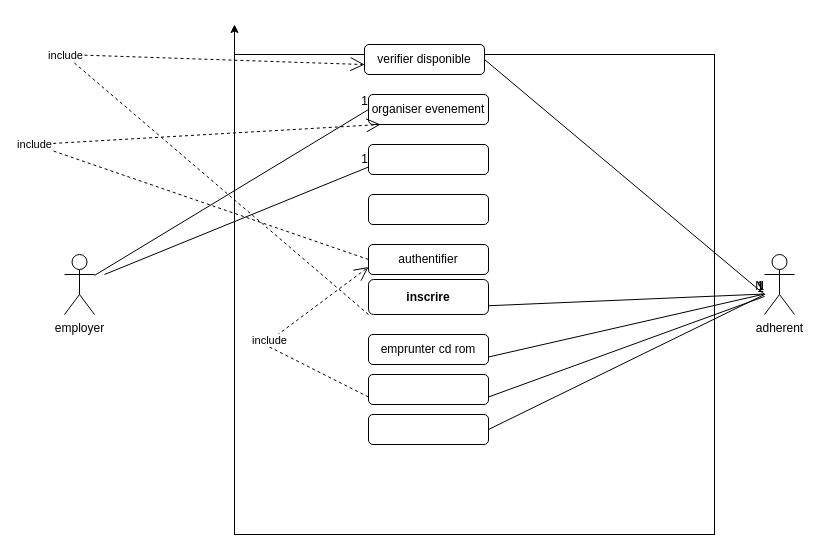
Some shapes in this 821 by 552 pixel diagram are drawn without their labels. Here are the shapes that lost their labels. From the top down, the box of each, then its label:
(368, 144, 488, 174): enregistrer emprunte
(368, 194, 488, 224): reserver cd rom
(368, 374, 488, 404): payer cotisation
(368, 414, 488, 444): rendre cd rom
